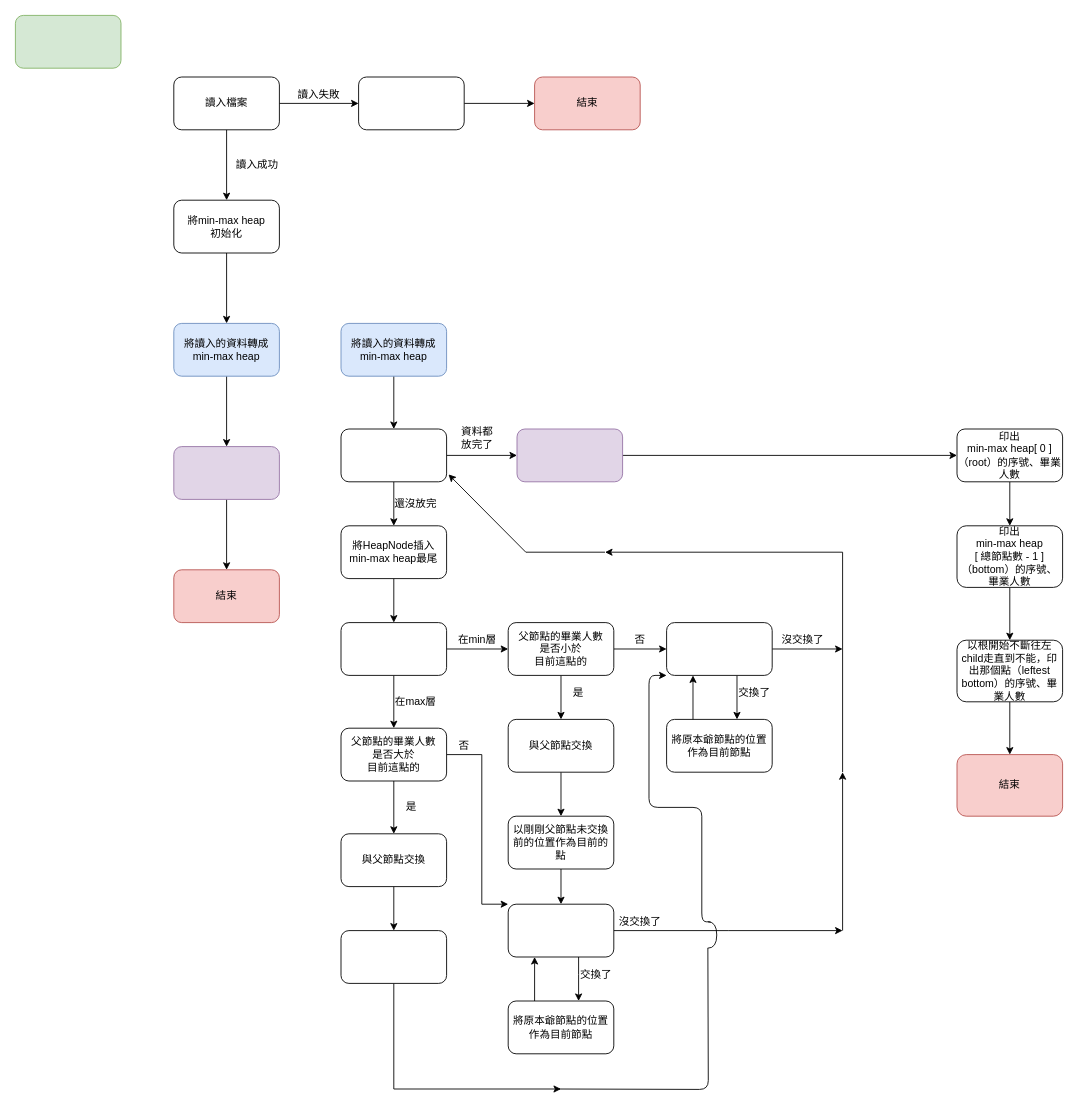
This 1078x1111 diagram has some shape labels left out. The centre of each missing label's shape, as x and y in pixels:
"以剛剛父節點未交換前的位置為基準，" belongs at point 393,956.
"任務2" belongs at point 68,41.
"判斷目前它在min還是max層" belongs at point 393,648.
"印出min-max heap根..." belongs at point 569,455.
"印出min-max heap根、最左下、最尾位置所儲存的序號、 畢業人數" belongs at point 226,472.
"告訴使用者沒讀成功，無法建min-max heap" belongs at point 411,103.
"如果爺節點比較大，與其交換" belongs at point 560,930.
"如果爺節點比較小，與其交換" belongs at point 719,648.
"將要放入的資料拿出一筆，取序號、畢業人數建HeapNode物件" belongs at point 393,455.
